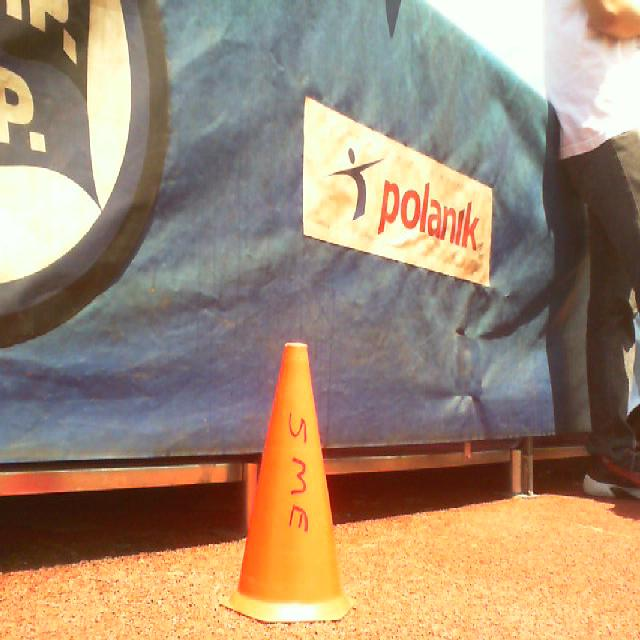cone: (218, 342, 356, 622)
